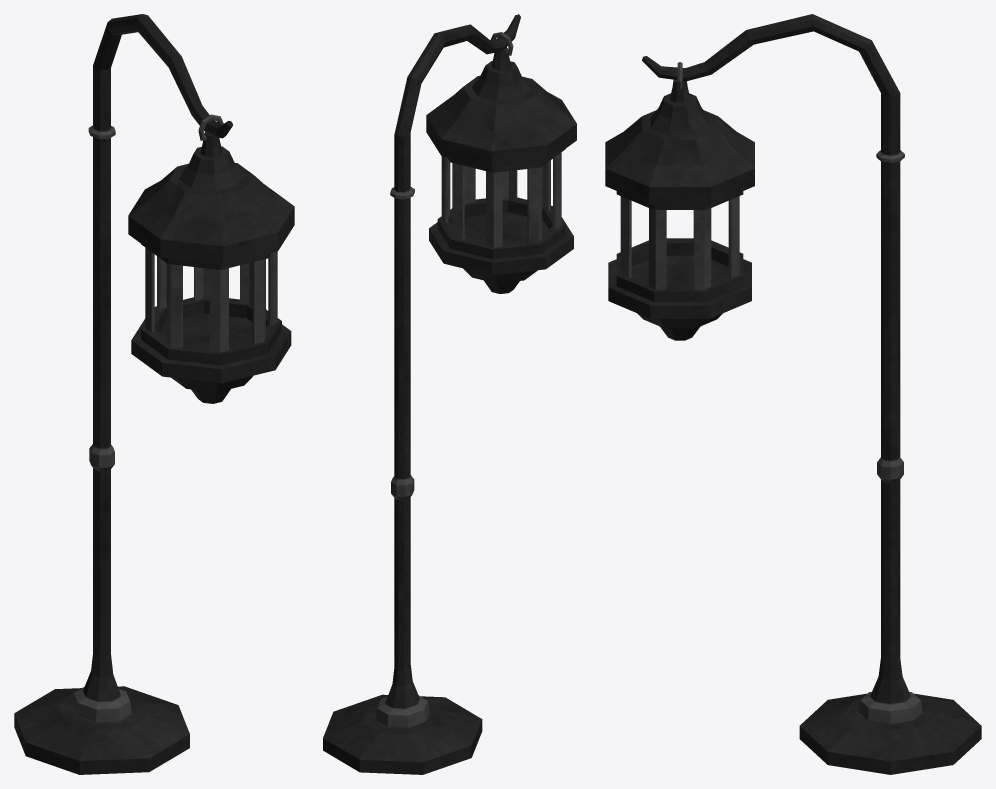
File: Fairy_Lantern.fbx
3 renders of one model, left to right at view 1: azimuth 30°, elevation 25°; view 2: azimuth 150°, elevation 25°; view 3: azimuth 270°, elevation 25°, orthographic. The views are drawn at different scales.
Visible parts, largest first — view 1: Fairy Lantern; view 2: Fairy Lantern; view 3: Fairy Lantern.
Boxes of the visible parts, left/top/right/bottom form: Fairy Lantern: left=14, top=14, right=294, bottom=774; Fairy Lantern: left=323, top=14, right=576, bottom=774; Fairy Lantern: left=605, top=14, right=981, bottom=774.
Size of the model in its own units: 54.13 by 255 by 120.
